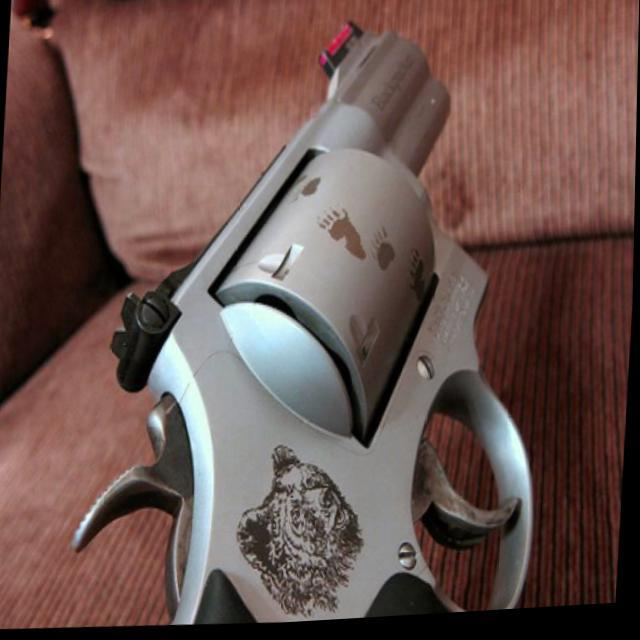weapon: (66, 1, 564, 636)
